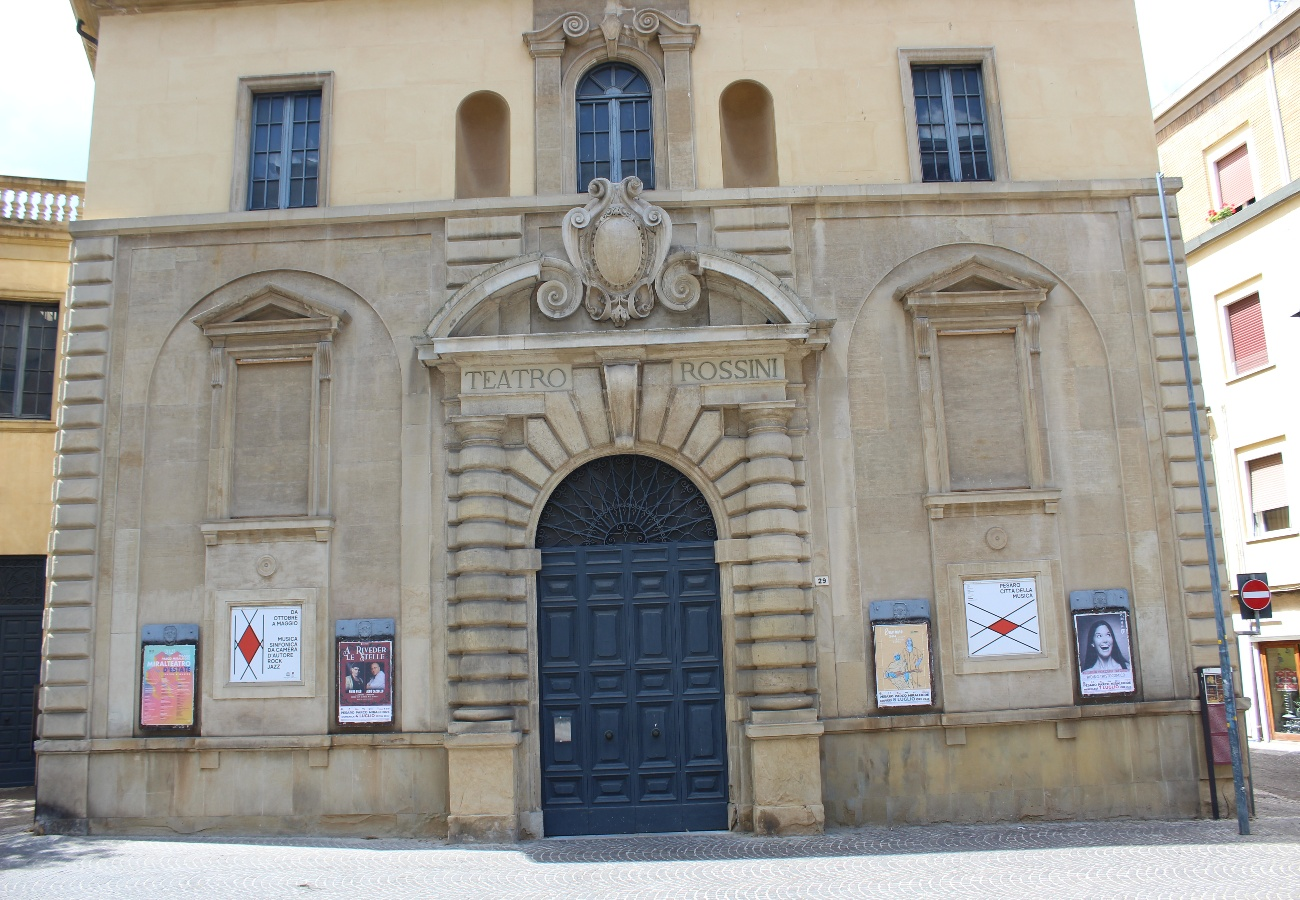Teatro Rossini: (36, 1, 1253, 834)
